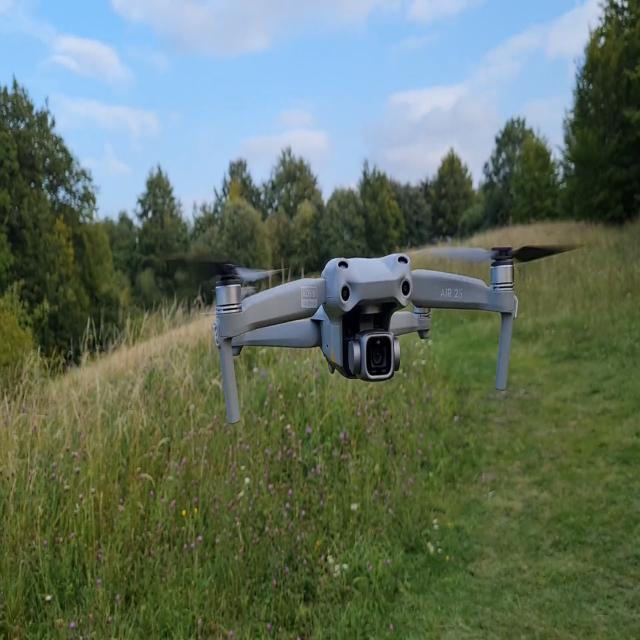drone: (161, 240, 586, 424)
